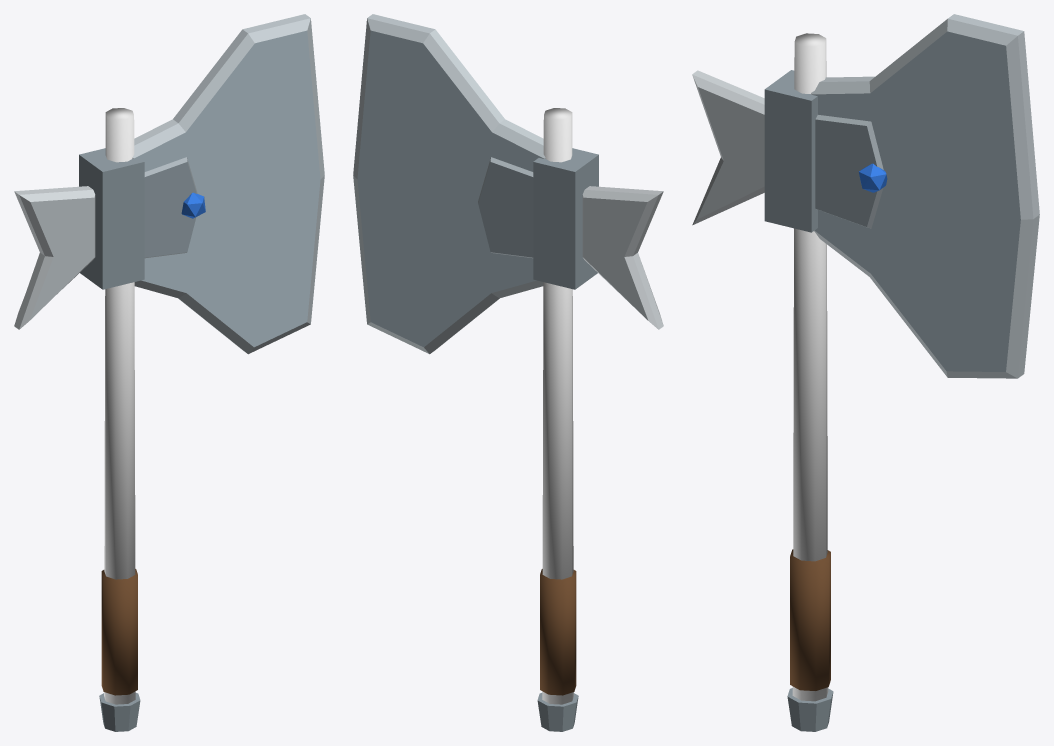
The model's file is platinum_axe.glb.
3 renders of one model, left to right at view 1: azimuth 30°, elevation 25°; view 2: azimuth 150°, elevation 25°; view 3: azimuth 330°, elevation 25°, orthographic. The views are drawn at different scales.
Parts seen in each view (by area): view 1: platinum_axe_v0; view 2: platinum_axe_v0; view 3: platinum_axe_v0.
Boxes of the visible parts, left/top/right/bottom form: platinum_axe_v0: left=14, top=14, right=324, bottom=731; platinum_axe_v0: left=353, top=14, right=663, bottom=731; platinum_axe_v0: left=692, top=14, right=1039, bottom=731.
Bounding box in the file's own units: 0.4732 × 0.9818 × 0.071.
